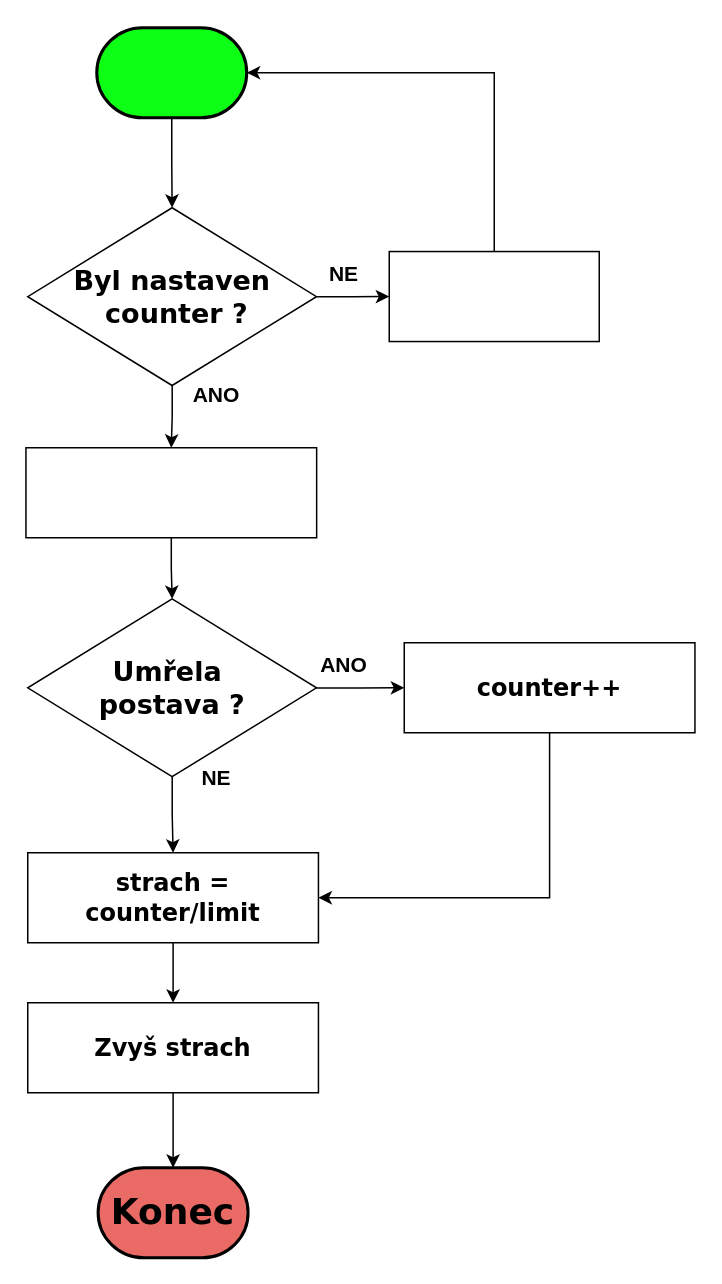
Some shapes in this 722 by 1284 pixel diagram are drawn without their labels. The centre of each missing label's shape, as x and y in pixels:
"counter = 0" belongs at point (493, 296).
"limit = obtížnost" belongs at point (170, 492).
"Start" belongs at point (171, 72).
